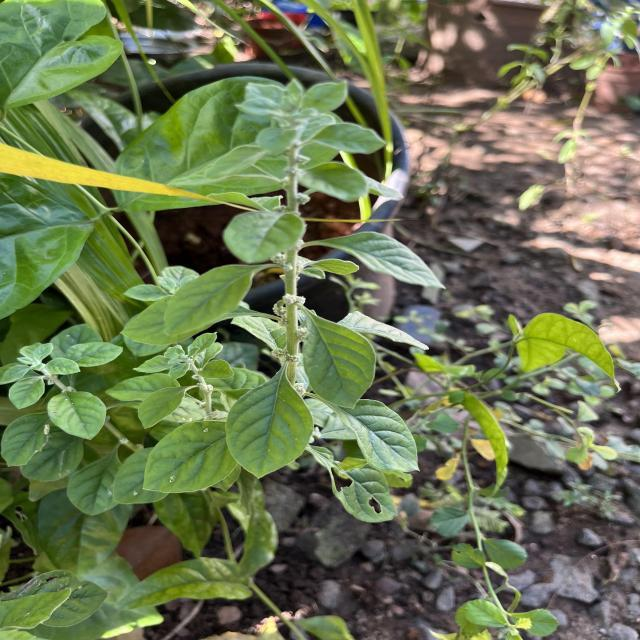Aerva lanata: (223, 371, 315, 482), (321, 398, 424, 475), (140, 416, 239, 494), (45, 388, 109, 442)
